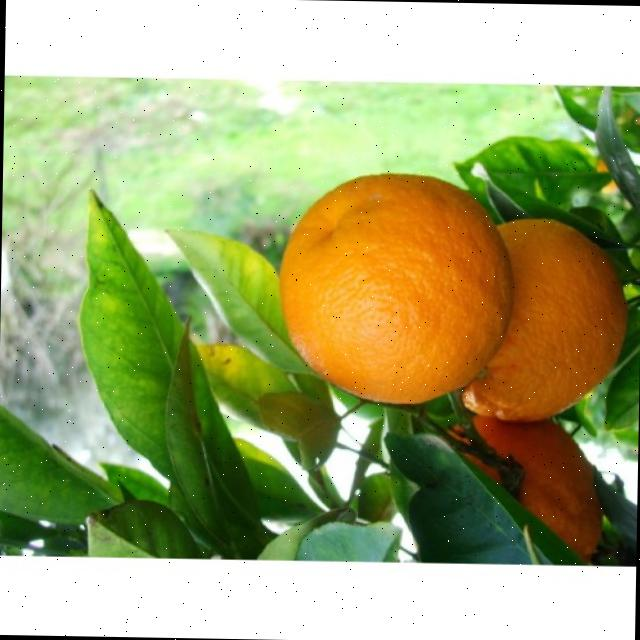Jeruk: (275, 171, 516, 408), (459, 217, 628, 426), (442, 413, 604, 564)
